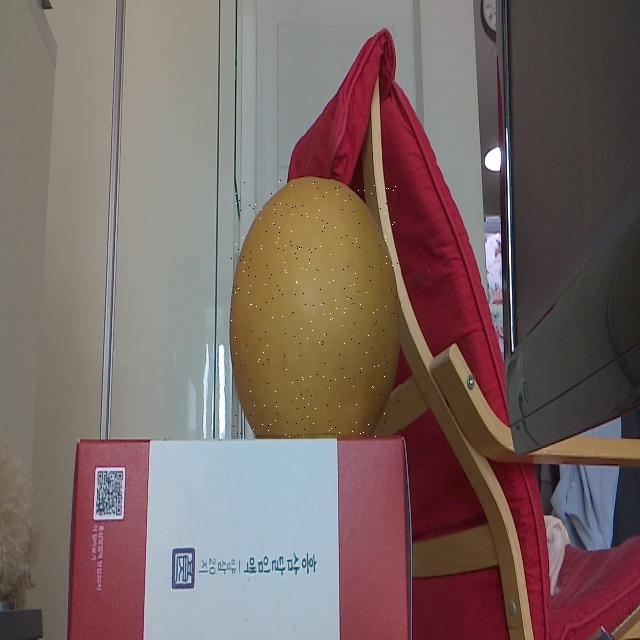pear: (231, 180, 401, 438)
